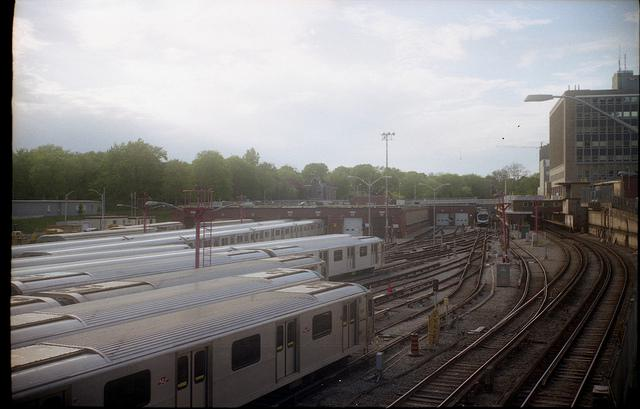Train: (9, 275, 376, 409), (2, 217, 387, 324), (11, 267, 319, 351), (5, 233, 353, 281), (11, 219, 259, 258), (478, 209, 491, 228)
